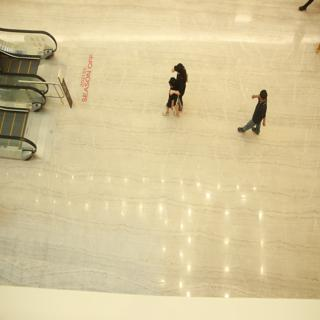person: (164, 57, 197, 128), (240, 81, 273, 140)
